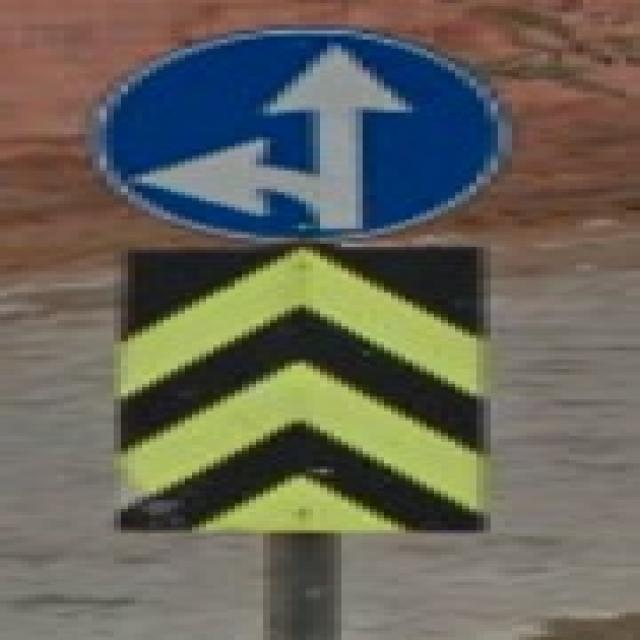Straight or Left: (93, 30, 506, 243)
